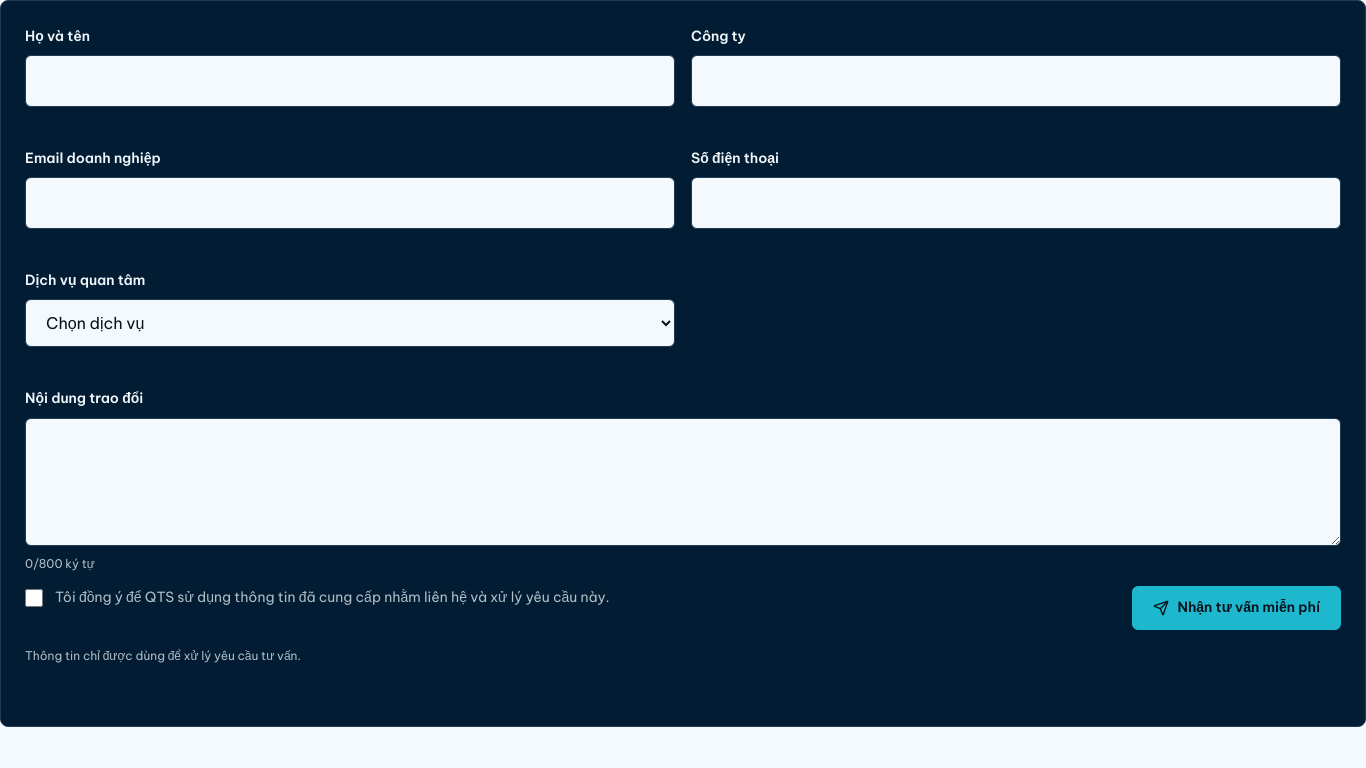
Test: LeadForm › submits the corporate contact contract directly
Type "Nguyễn Minh An" into the field labelled "Họ và tên" at (350, 81), box x1=25 y1=55 x2=675 y2=107
Type "Công ty Minh An" into the field labelled "Công ty" at (1016, 81), box x1=691 y1=55 x2=1341 y2=107
Type "an@minhan.vn" into the field labelled "Email doanh nghiệp" at (350, 203), box x1=25 y1=177 x2=675 y2=229
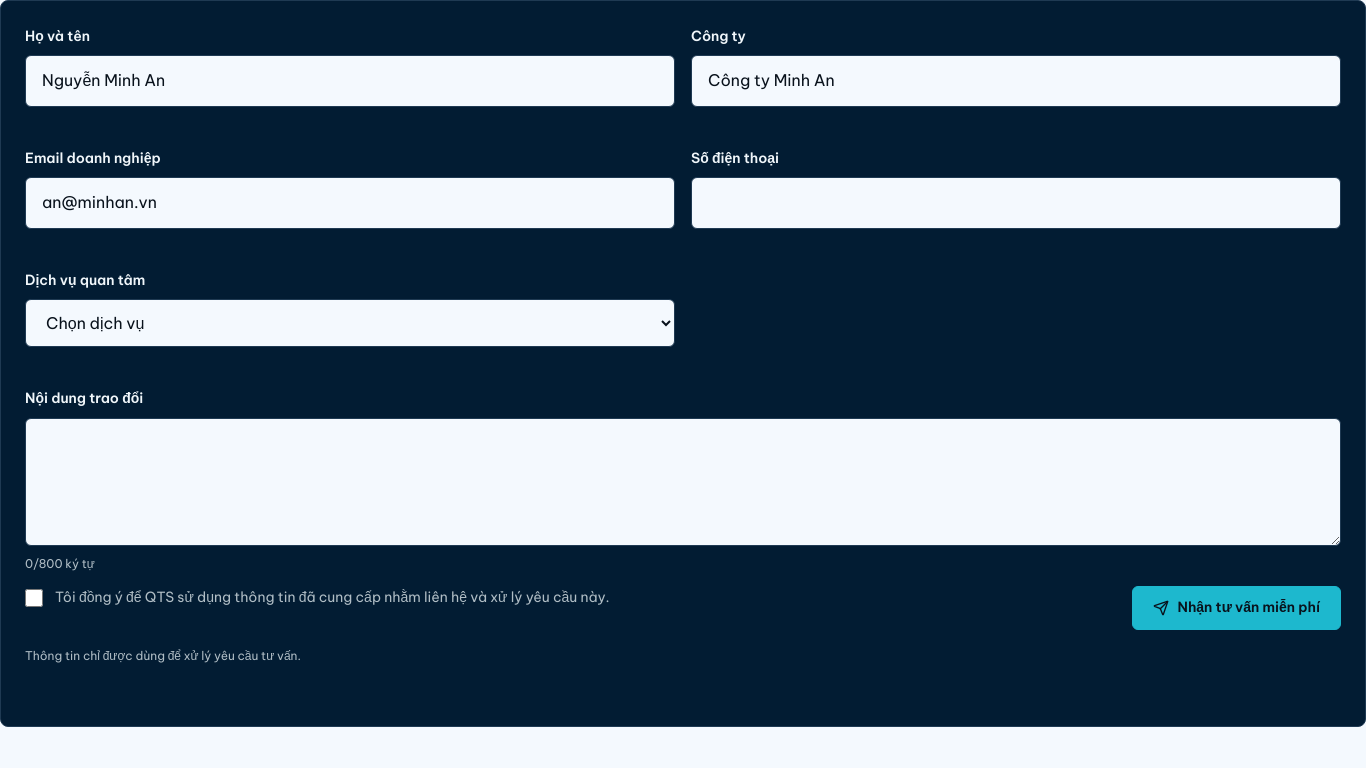
Type "0901234567" into the field labelled "Số điện thoại" at (1016, 203), box x1=691 y1=177 x2=1341 y2=229
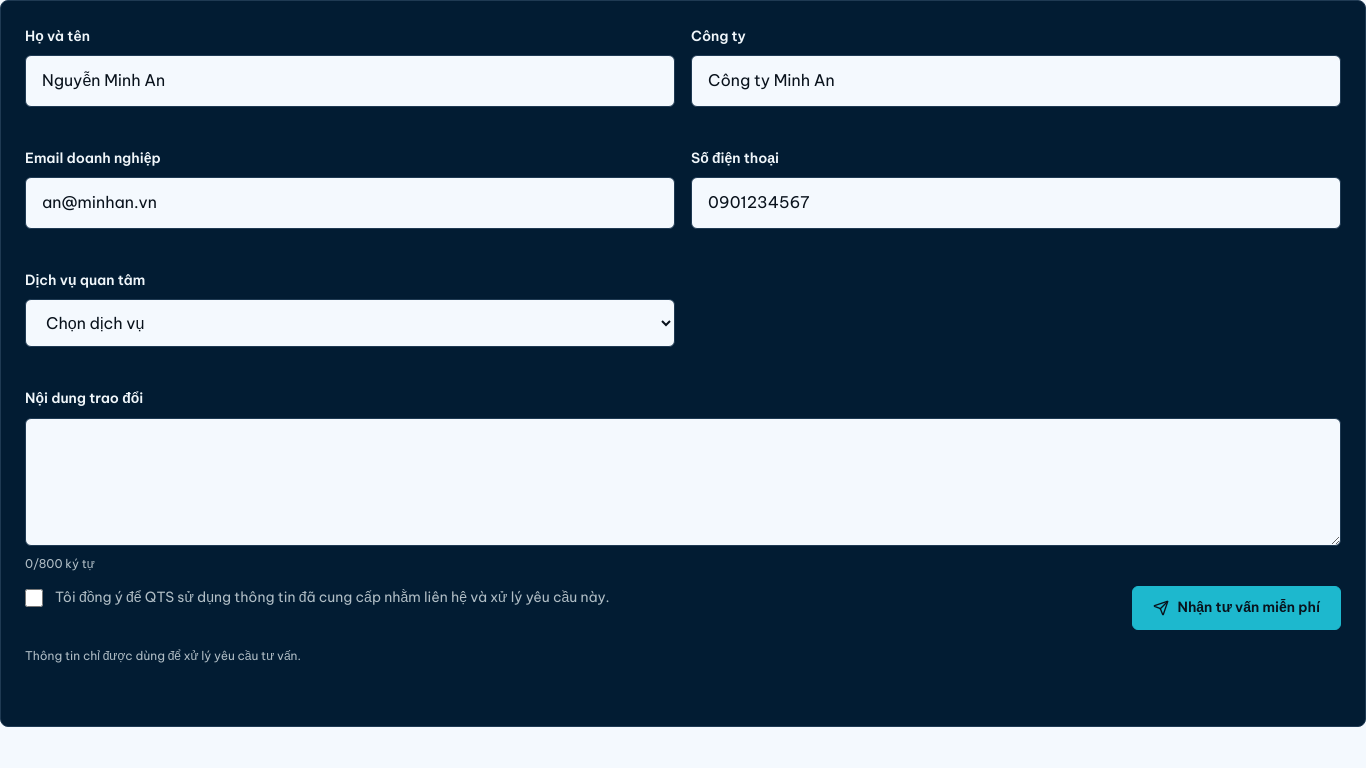
Select "Phát triển phần mềm" in the dropdown labelled "Dịch vụ quan tâm" at (350, 323), box x1=25 y1=299 x2=675 y2=347
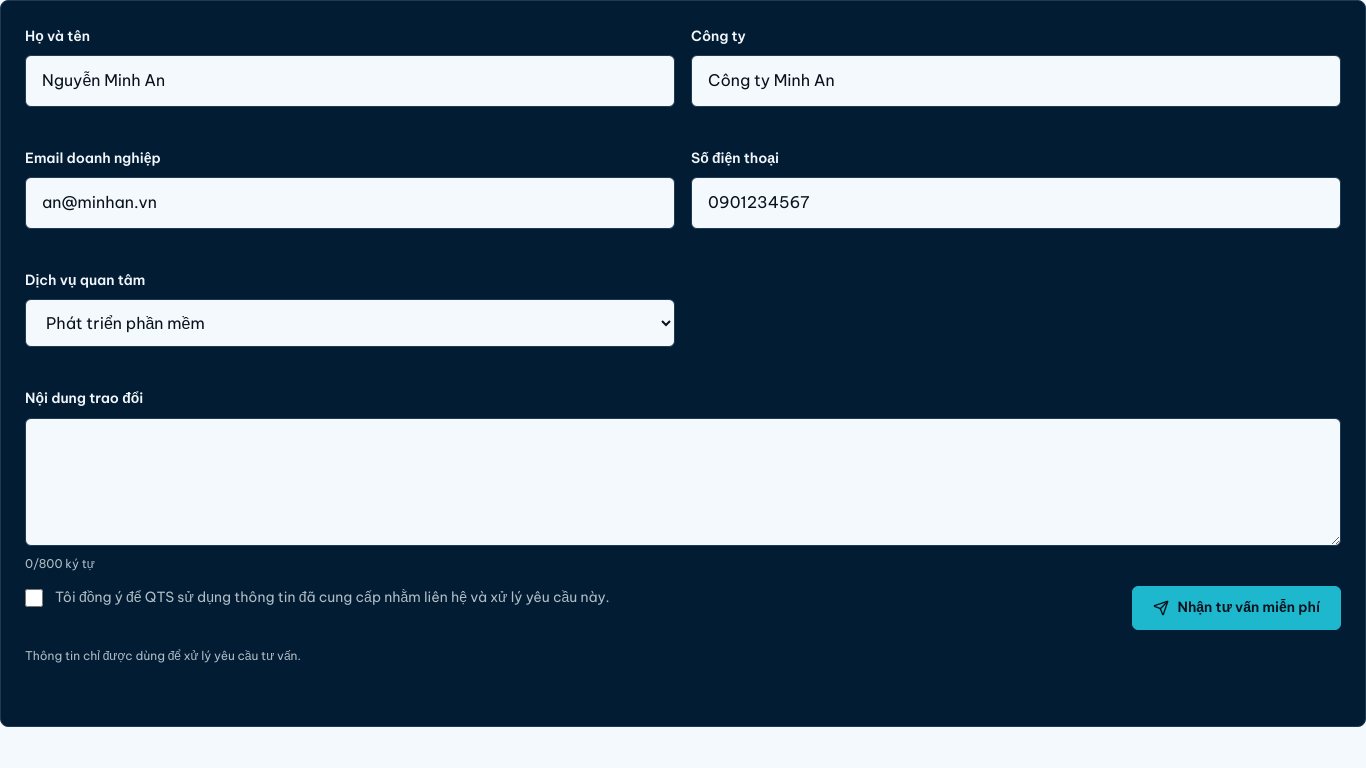
Type "Cần số hóa quy trình phê duyệt hợp đồng nội bộ." into the text box labelled "Nội dung trao đổi" at (683, 482), box x1=25 y1=418 x2=1341 y2=546
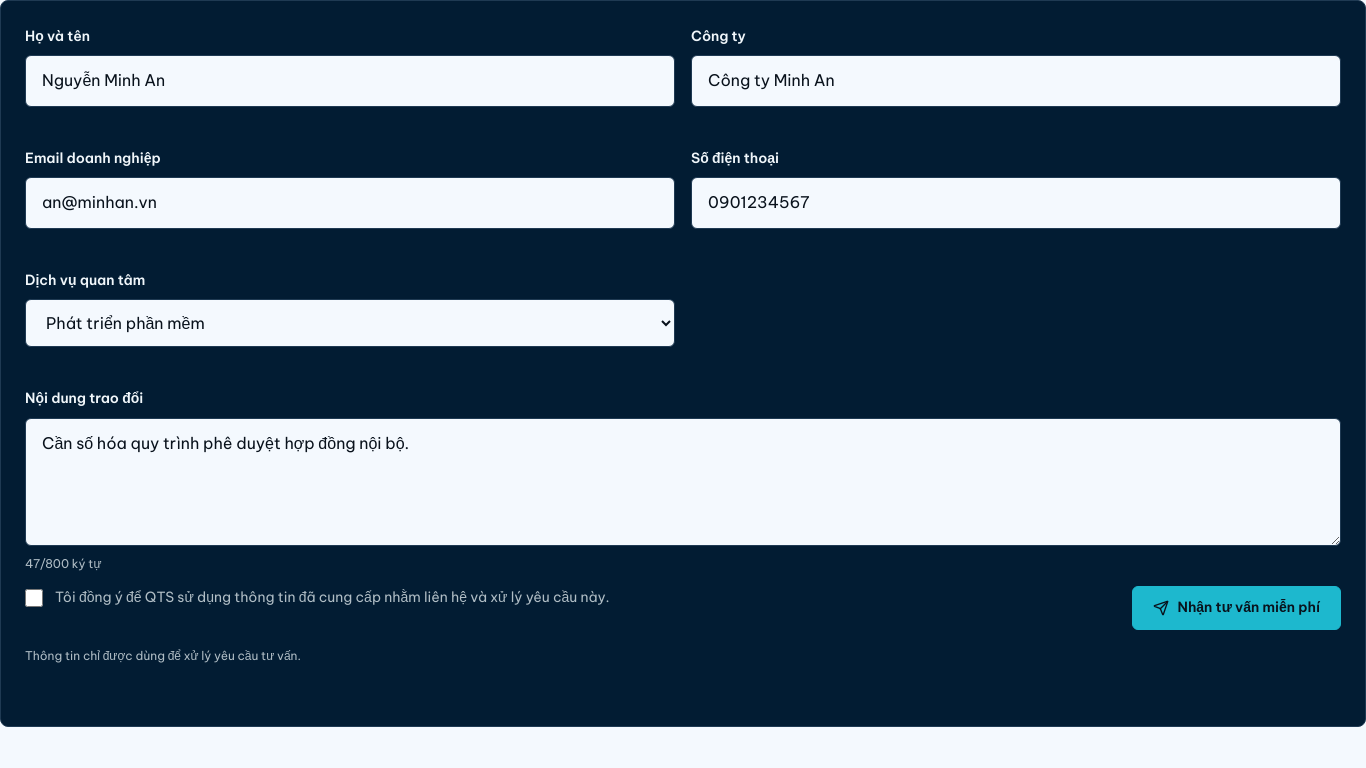
Click the checkbox at (34, 598), box x1=25 y1=589 x2=43 y2=607
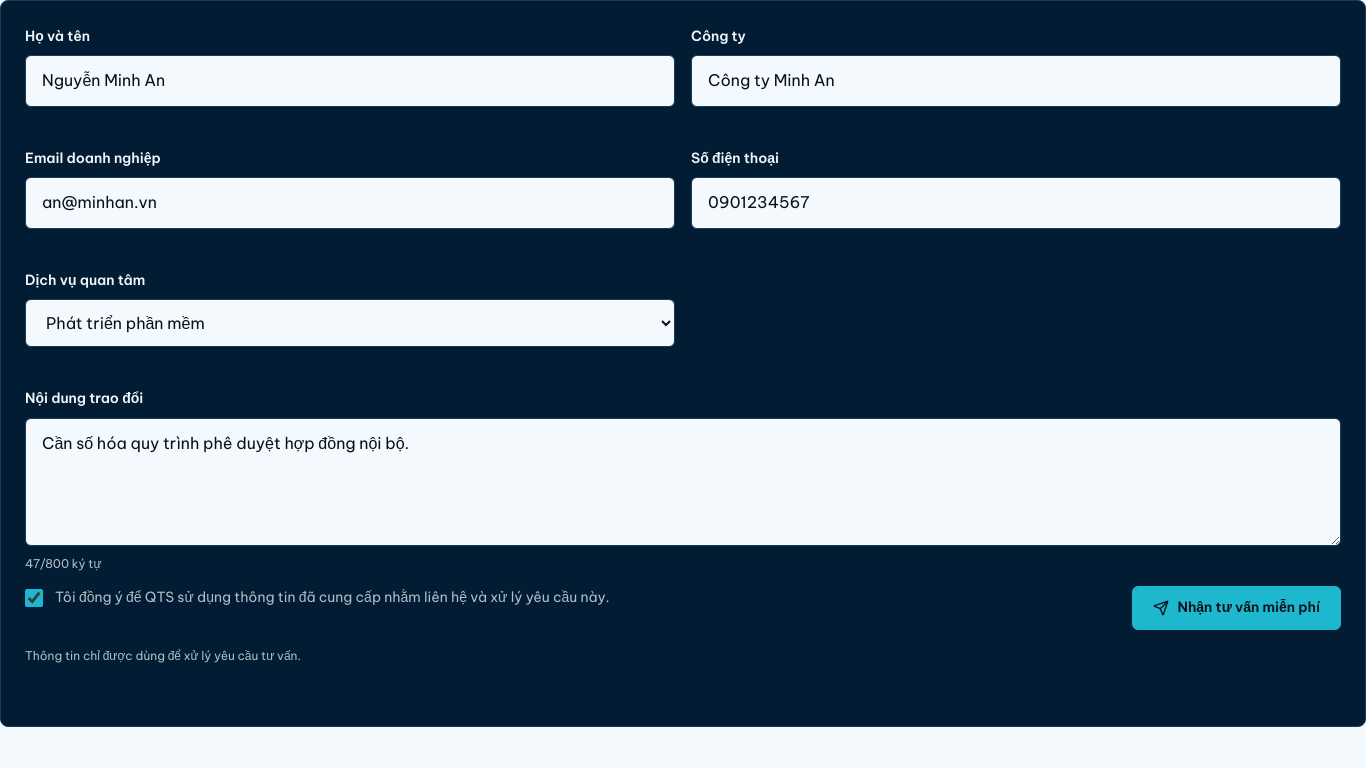
Click the button "Nhận tư vấn miễn phí" at (1237, 608), box x1=1132 y1=586 x2=1341 y2=630
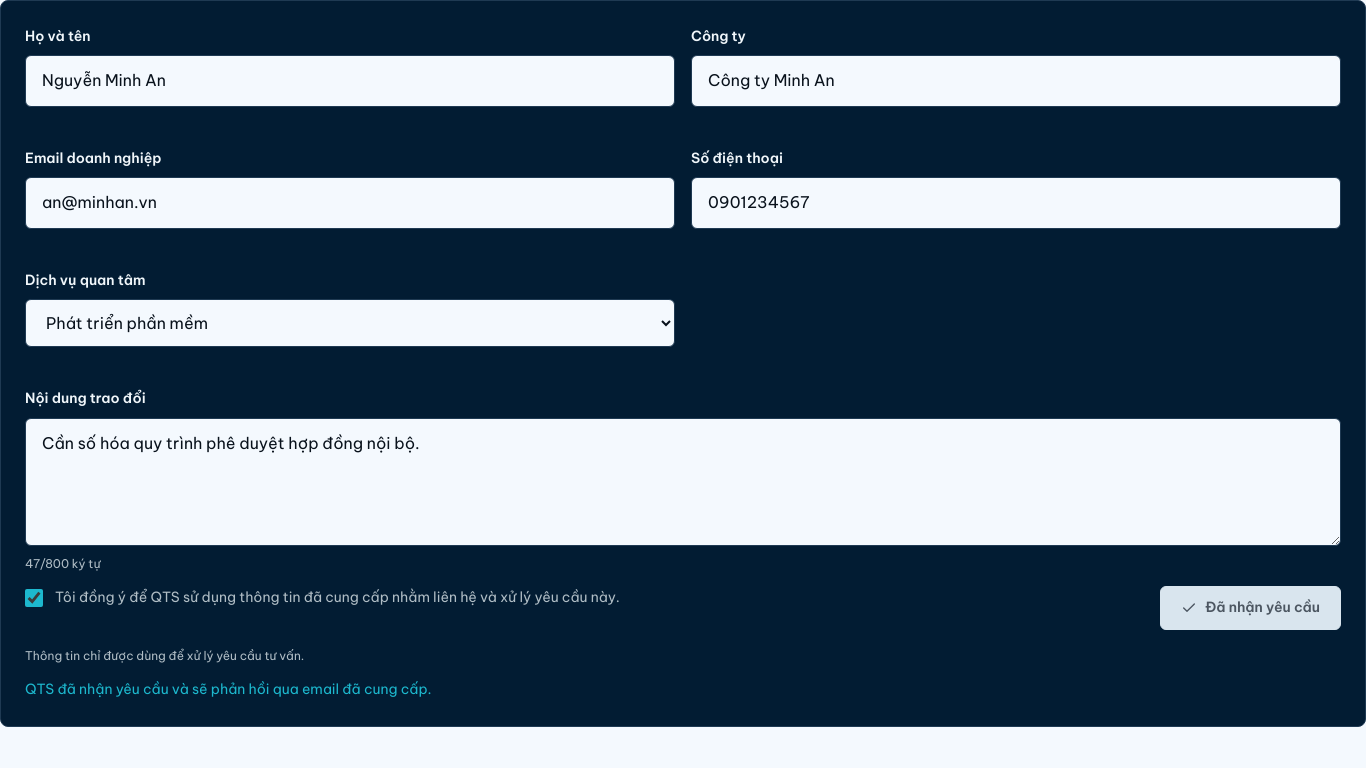
Expected: the message shows "QTS đã nhận yêu cầu", x1=25 y1=680 x2=432 y2=698
